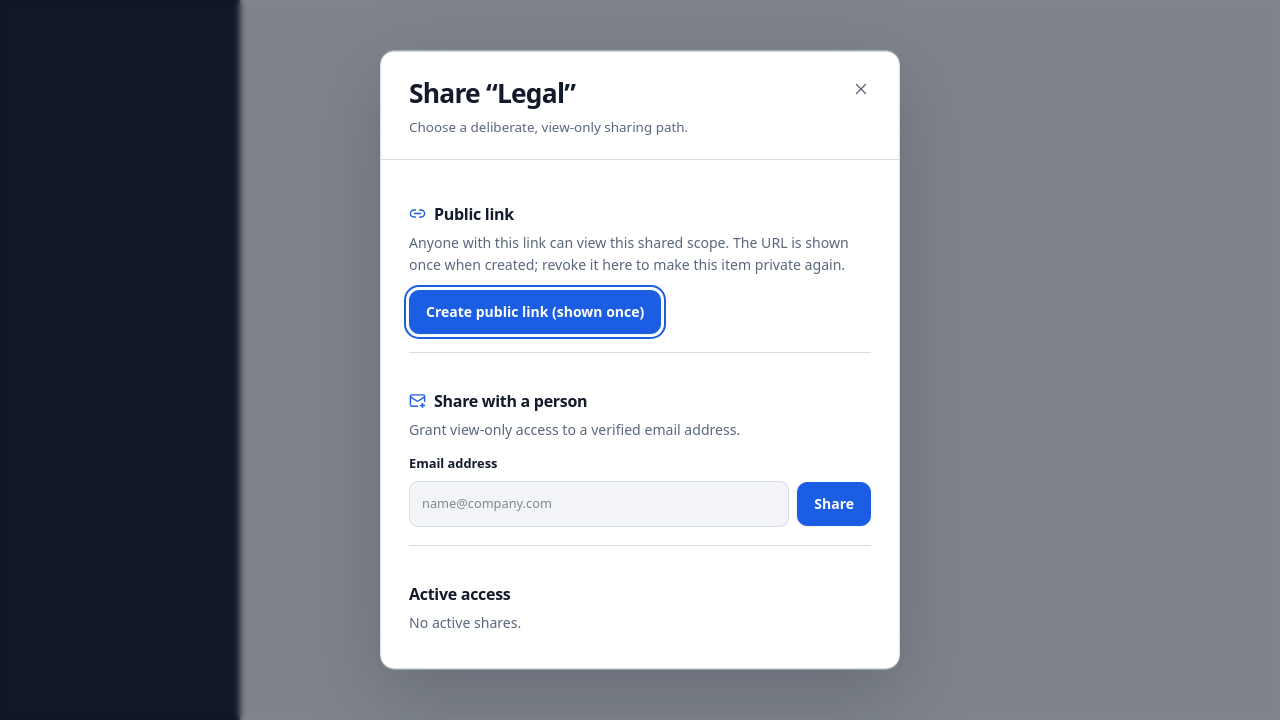
it: management dialogs › confirms a person-share with a safe link to Shared with me
This screenshot has width=1280, height=720.
Type "person@example.com" into the field labelled "Email address" at (599, 504), box [409,481,789,527]
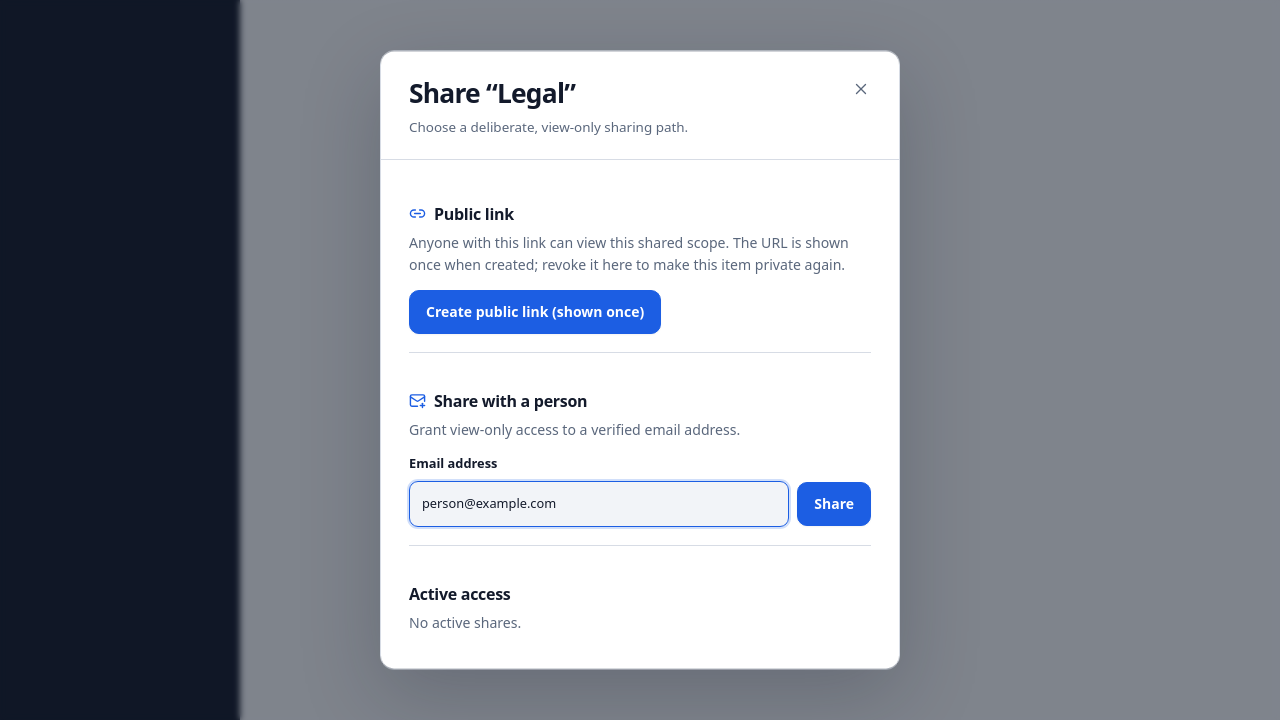
Click the button "Share" at (834, 504), box [797,482,871,526]
(page scrolled)
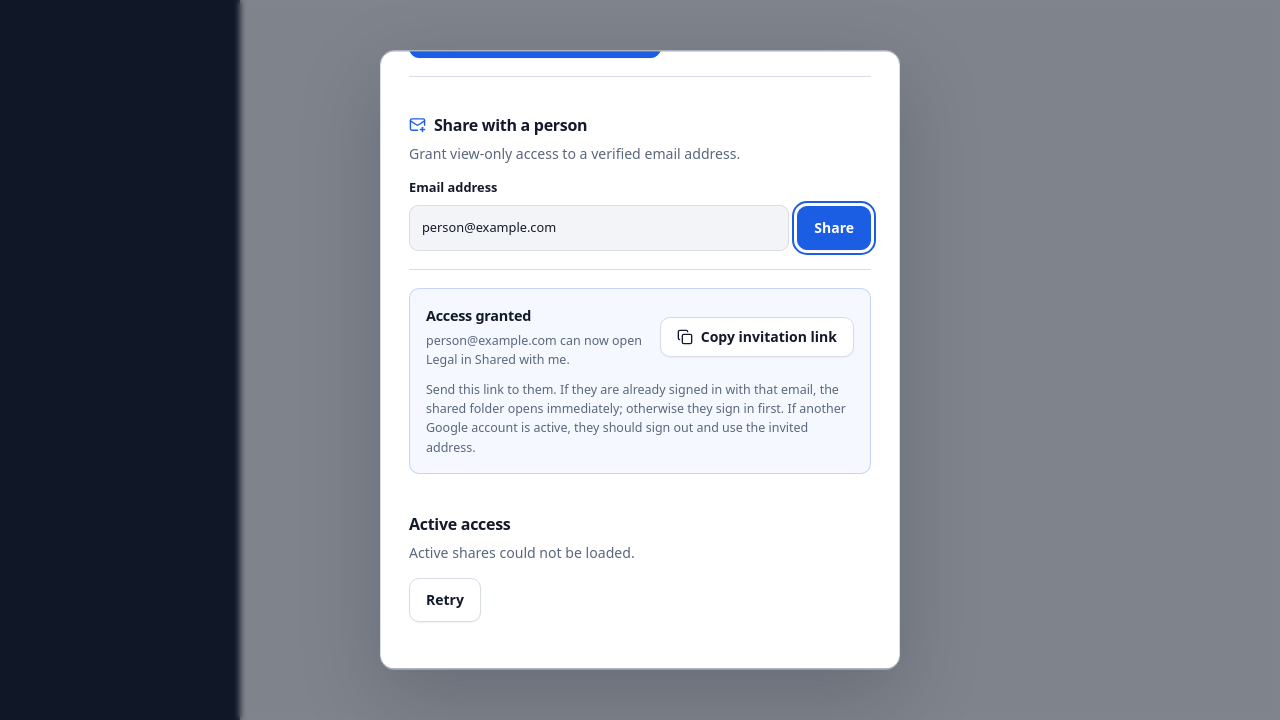
expect the heading "Access granted" is shown: met, box [426,306,531,325]
expect the button "Copy invitation link" is shown: met, box [660,318,854,358]
expect the text "already signed in" is shown: met, box [426,381,846,456]
